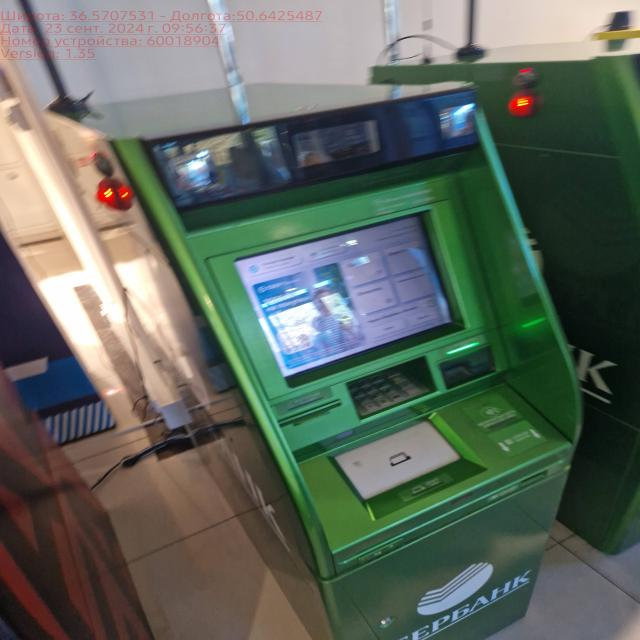bank: (27, 78, 581, 640), (374, 55, 640, 557)
